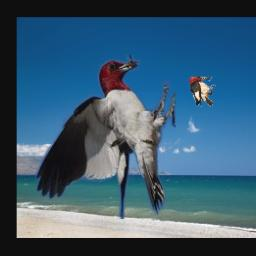Woodpecker: (36, 55, 177, 219), (188, 76, 216, 107)
